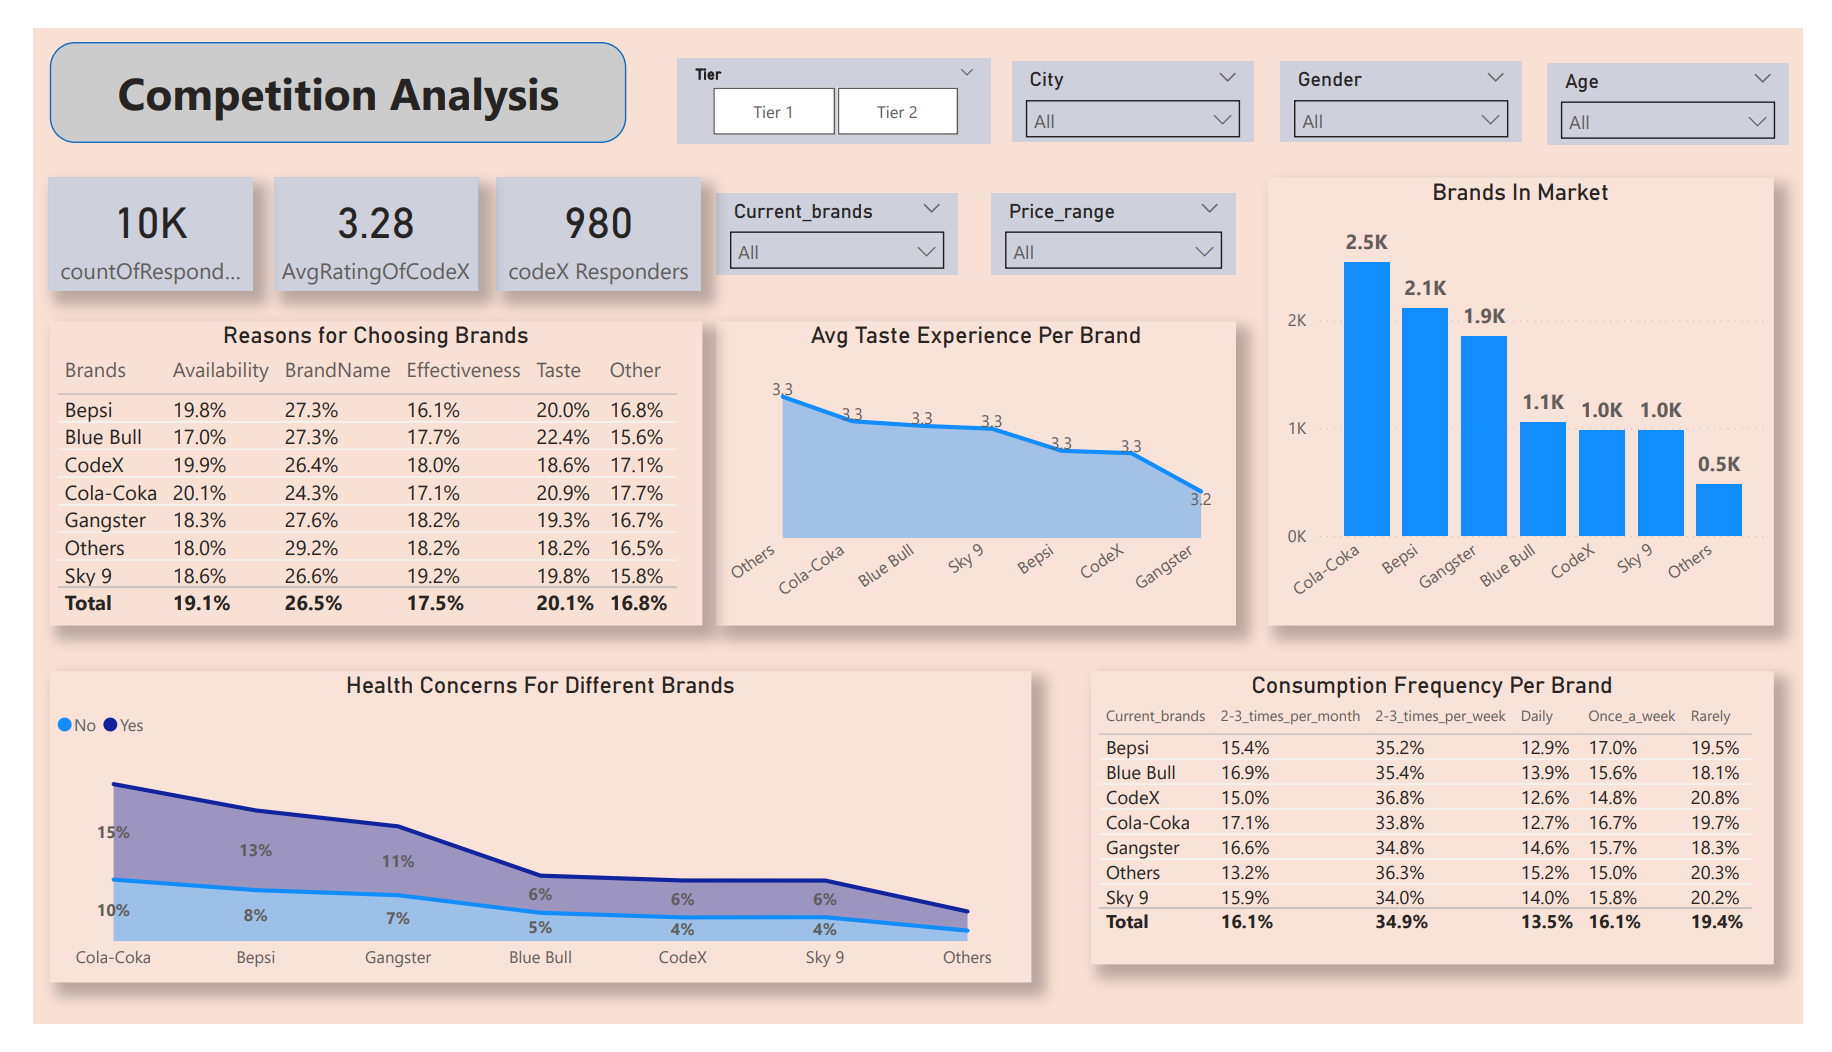

Layout of this report page (visuals, bound fields, positions):
{"tool":"powerbi","page":{"name":"Competition  Analysis","canvas":[1280,720],"ordinal":2},"visuals":[{"type":"card","fields":{"Values":["Key_measures.AvgRatingOfCodeX"]},"box":[174.1,107.8,147.9,82.2],"z":0,"group":"g2"},{"type":"slicer","fields":{"Values":["fact_survey_responses.Current_brands"]},"box":[494.4,118.9,174.7,59.5],"z":0},{"type":"group","id":"g1","title":"Group 1","box":[12.3,10.1,416.8,73.2],"z":1000},{"type":"clusteredColumnChart","title":" Brands In Market","fields":{"Category":["fact_survey_responses.Current_brands"],"Y":["Key_measures.countOfResponders"]},"box":[893.4,107.6,366,324.2],"z":2000},{"type":"slicer","fields":{"Values":["dim_repondents.Age"]},"box":[1095.1,25.4,174.8,58.3],"z":3000},{"type":"card","fields":{"Values":["Key_measures.countOfResponders"]},"box":[11.2,107.8,147.9,82.2],"z":3000,"group":"g2"},{"type":"slicer","fields":{"Values":["dim_cities.City"]},"box":[708.2,23.9,174.8,58.3],"z":4000},{"type":"card","fields":{"Values":["Key_measures.codeX Responders"]},"box":[335.4,107.8,147.9,82.2],"z":4000,"group":"g2"},{"type":"slicer","fields":{"Values":["dim_repondents.Gender"]},"box":[902.4,23.9,174.8,58.3],"z":5000},{"type":"slicer","fields":{"Values":["dim_cities.Tier"]},"box":[466.1,22.4,227.1,61.3],"z":6000},{"type":"group","id":"g2","title":"Group 2","box":[11.2,107.8,472.1,81.8],"z":7000},{"type":"stackedAreaChart","title":" Health Concerns For Different Brands","fields":{"Category":["fact_survey_responses.Current_brands"],"Y":["Key_measures.Percentage of Respondents"],"Series":["fact_survey_responses.Health_concerns"]},"box":[12,464.6,709.7,225.6],"z":8000},{"type":"shape","box":[12.3,10.1,416.8,73.2],"z":9000,"group":"g1"},{"type":"slicer","fields":{"Values":["fact_survey_responses.Price_range"]},"box":[693.2,118.9,176.6,59.5],"z":9000},{"type":"textbox","box":[25.5,18.8,391.4,55.3],"z":10000,"group":"g1"},{"type":"tableEx","title":"Reasons for Choosing Brands","fields":{"Values":["fact_survey_responses.Current_brands","Key_measures.Availability","Key_measures.Brand Reputation","Key_measures.Effectiveness","Key_measures.Taste preference","Key_measures.Other"]},"box":[12,212,472,220],"z":10000},{"type":"tableEx","title":"Consumption Frequency  Per Brand ","fields":{"Values":["fact_survey_responses.Current_brands","Key_measures.2-3_times_per_month","Key_measures.2-3_times_per_week","Key_measures.Daily","Key_measures.Once_a_week","Key_measures.Rarely"]},"box":[765,464.6,494.5,212.2],"z":11000},{"type":"areaChart","title":"Avg Taste Experience  Per Brand","fields":{"Category":["fact_survey_responses.Current_brands"],"Y":["Key_measures.Average Taste Experience"]},"box":[494,212,376,220],"z":12000}]}

Visuals, with their boxes in screenshot pixels (x1, y1, x2, y2), scaled from the page's 1280x720 canvas onto the 1832x1052 screenshot:
card - Key_measures.AvgRatingOfCodeX: <region>249, 158, 461, 278</region>
slicer - fact_survey_responses.Current_brands: <region>708, 174, 958, 261</region>
"Group 1" group: <region>18, 15, 614, 122</region>
" Brands In Market" clusteredColumnChart: <region>1279, 157, 1803, 631</region>
slicer - dim_repondents.Age: <region>1567, 37, 1818, 122</region>
card - Key_measures.countOfResponders: <region>16, 158, 228, 278</region>
slicer - dim_cities.City: <region>1014, 35, 1264, 120</region>
card - Key_measures.codeX Responders: <region>480, 158, 692, 278</region>
slicer - dim_repondents.Gender: <region>1292, 35, 1542, 120</region>
slicer - dim_cities.Tier: <region>667, 33, 992, 122</region>
"Group 2" group: <region>16, 158, 692, 277</region>
" Health Concerns For Different Brands" stackedAreaChart: <region>17, 679, 1033, 1008</region>
shape: <region>18, 15, 614, 122</region>
slicer - fact_survey_responses.Price_range: <region>992, 174, 1245, 261</region>
textbox: <region>36, 27, 597, 108</region>
"Reasons for Choosing Brands" tableEx: <region>17, 310, 693, 631</region>
"Consumption Frequency  Per Brand " tableEx: <region>1095, 679, 1803, 989</region>
"Avg Taste Experience  Per Brand" areaChart: <region>707, 310, 1245, 631</region>
